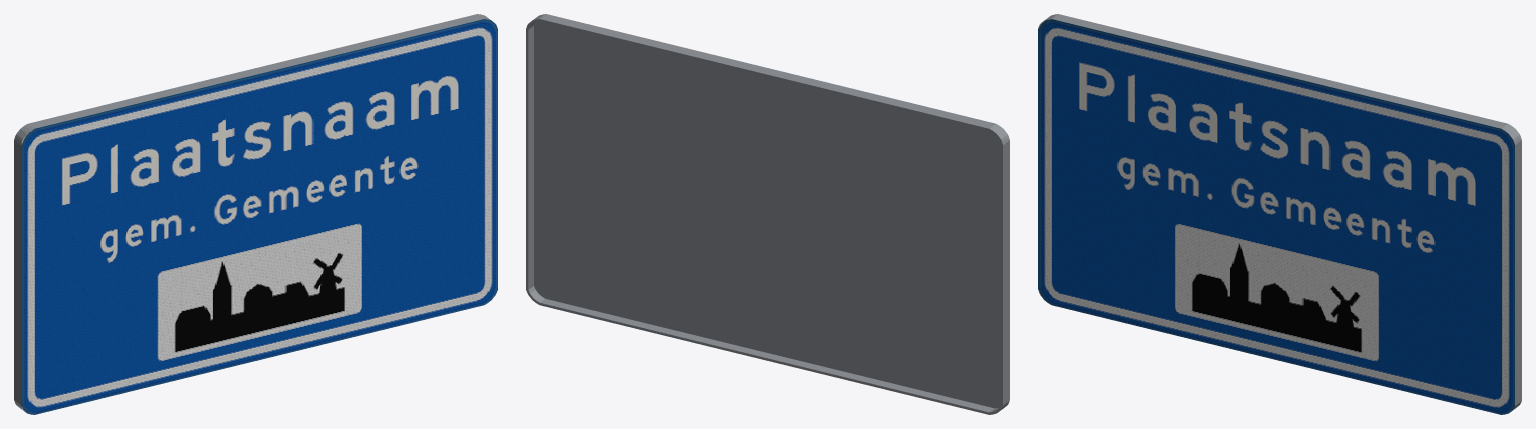
3 views of the same model, side by side, from view 1: azimuth 30°, elevation 25°; view 2: azimuth 150°, elevation 25°; view 3: azimuth 330°, elevation 25° (orthographic).
Visible parts, largest first — view 1: cat_faa5c374a179dc94; view 2: cat_faa5c374a179dc94; view 3: cat_faa5c374a179dc94.
Boxes of the visible parts, <box> form: cat_faa5c374a179dc94: <box>14,14,497,414</box>; cat_faa5c374a179dc94: <box>526,14,1009,414</box>; cat_faa5c374a179dc94: <box>1038,14,1521,414</box>.
Bounding box in the file's own units: 0.6 × 0.015 × 0.344.
Materials: 2 (1 with a texture image).
